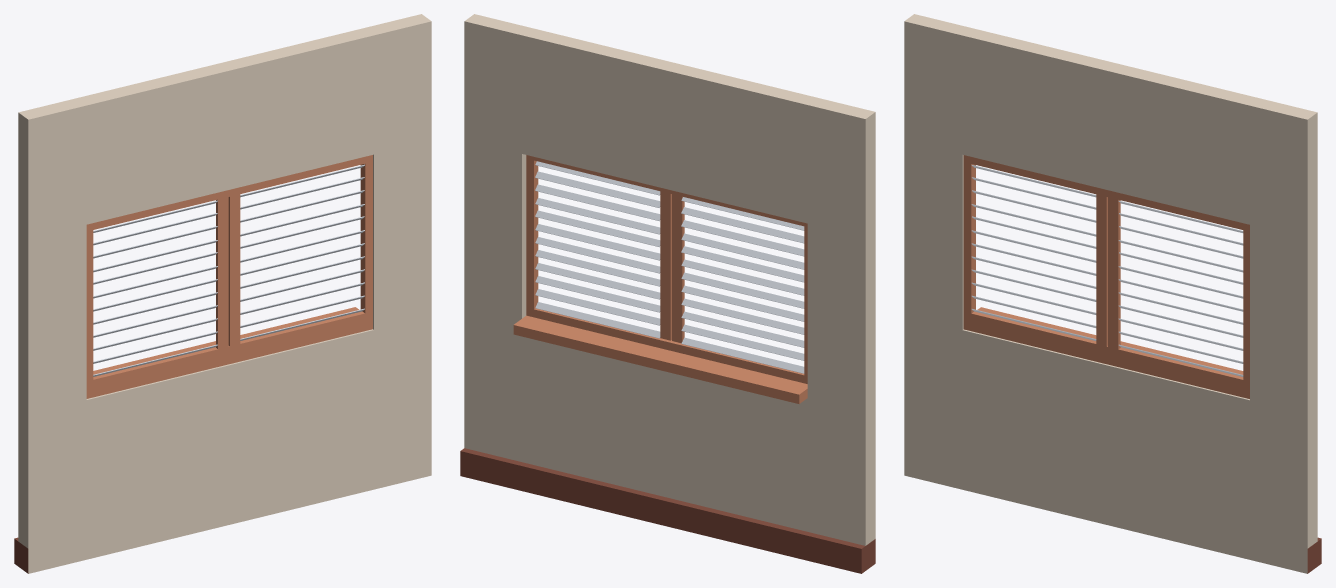
Rendered from Wall_03.fbx.
The picture shows the model from 3 angles, left to right: view 1: azimuth 30°, elevation 25°; view 2: azimuth 150°, elevation 25°; view 3: azimuth 330°, elevation 25°; orthographic projection.
Visible parts, largest first — view 1: Cube.001, Cube.004, Cube.002; view 2: Cube.001, Cube.004, Cube.002; view 3: Cube.001, Cube.004, Cube.002.
Part boxes in pixels (bbox=[...]): Cube.001: bbox=[14, 14, 431, 573]; Cube.004: bbox=[93, 164, 364, 376]; Cube.002: bbox=[86, 307, 372, 398]; Cube.001: bbox=[460, 14, 875, 573]; Cube.004: bbox=[535, 161, 804, 373]; Cube.002: bbox=[513, 315, 807, 403]; Cube.001: bbox=[904, 14, 1321, 573]; Cube.004: bbox=[971, 165, 1243, 376]; Cube.002: bbox=[963, 307, 1249, 398].
Bounding box in the file's own units: 5.81 × 0.4594 × 6.25.
